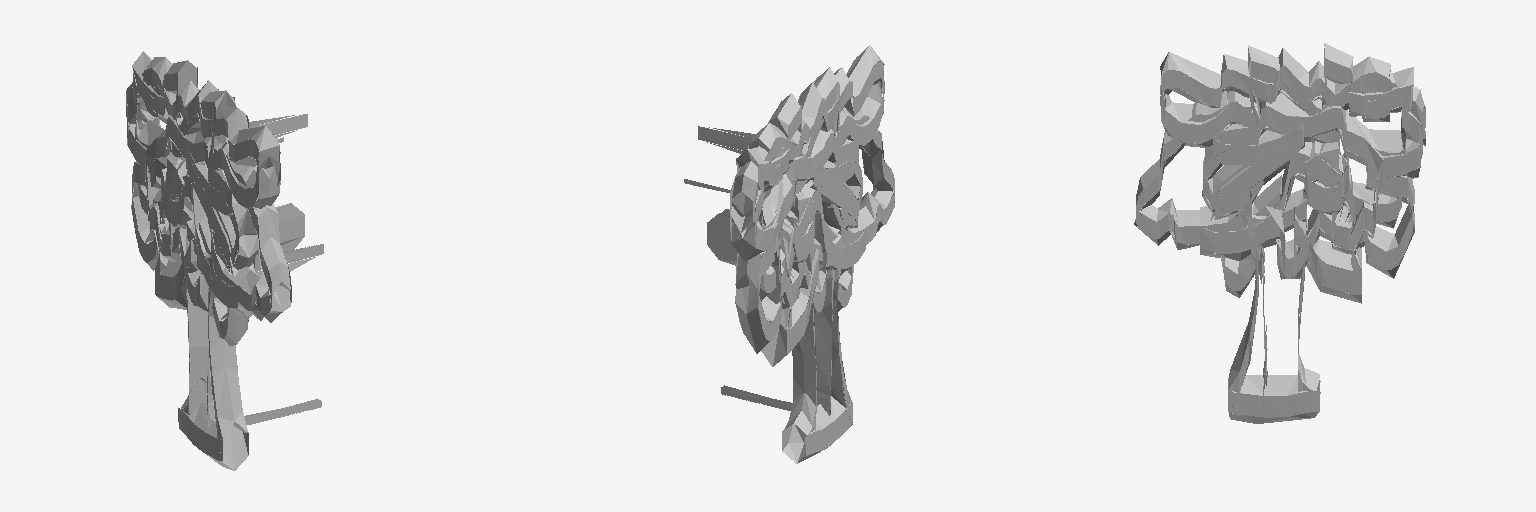
The model's file is kulissenbaum.obj.
3 renders of one model, left to right at view 1: azimuth 30°, elevation 25°; view 2: azimuth 150°, elevation 25°; view 3: azimuth 270°, elevation 25°, orthographic.
Visible parts, largest first — view 1: GP_Layer; view 2: GP_Layer; view 3: GP_Layer.
Boxes of the visible parts, x1,y1,x2,y2 form: GP_Layer: [126, 51, 323, 470]; GP_Layer: [684, 45, 894, 463]; GP_Layer: [1134, 43, 1425, 423].
Size of the model in its own units: 0.98 by 2.92 by 2.03.